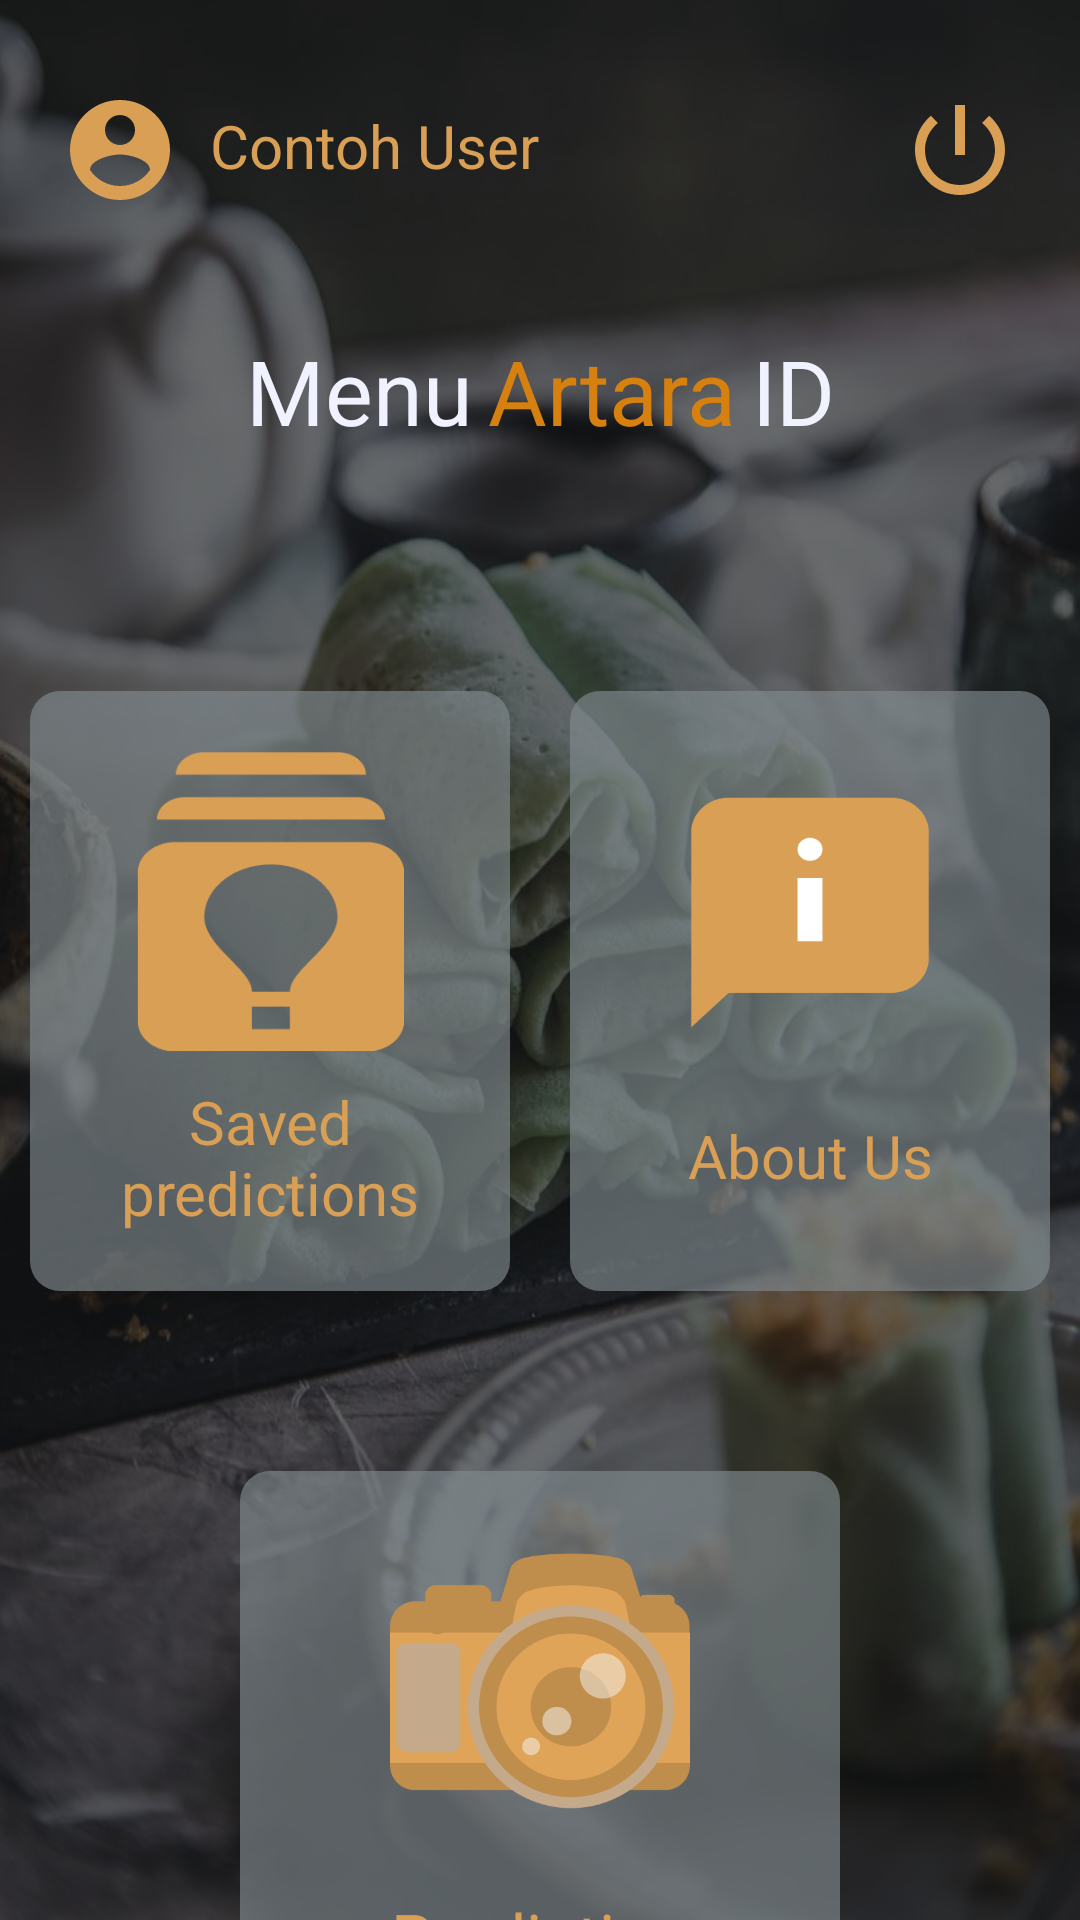

Icons on this 1080*1920 Android screen, each with the point to tap as (x=x, y=y):
account: (x=120, y=150)
